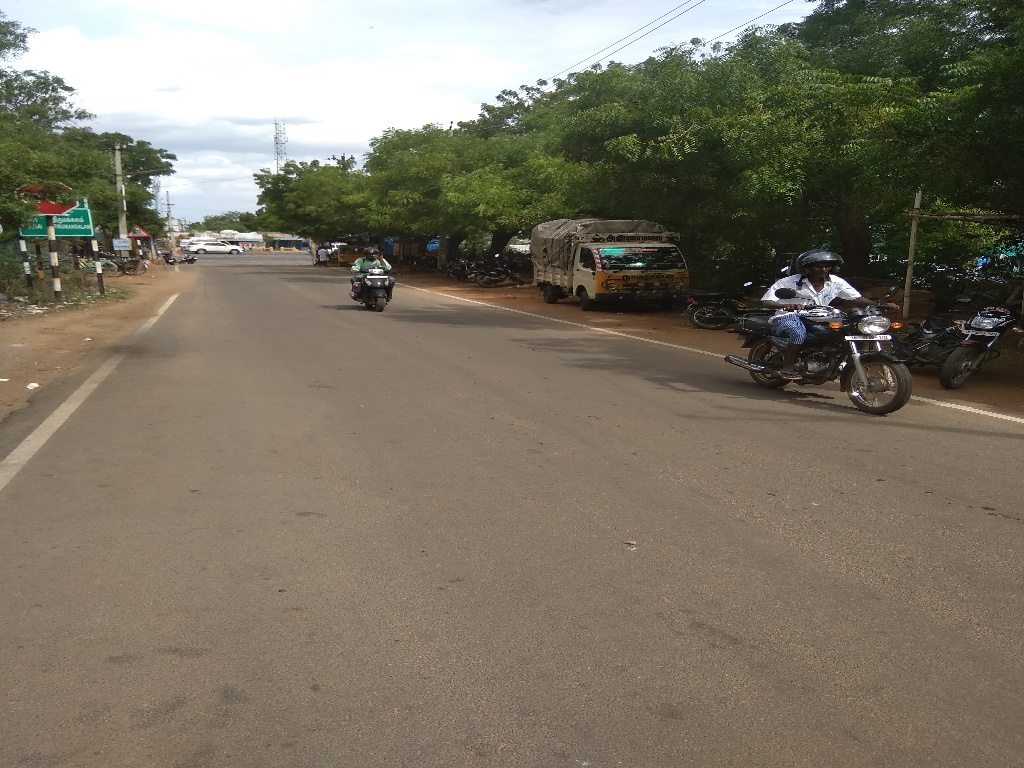biker: (702, 186, 944, 428), (324, 191, 422, 337)
helmet: (786, 234, 857, 293), (355, 233, 394, 266)
